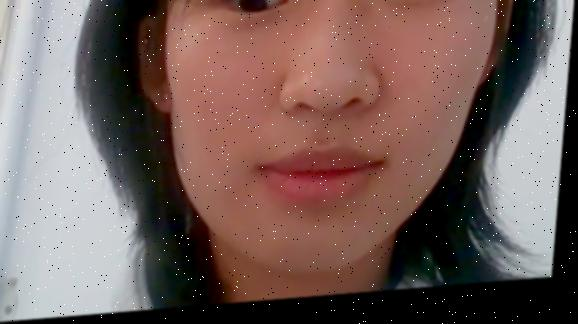eye: (239, 0, 266, 21), (386, 0, 415, 10)
iris: (223, 0, 290, 20), (383, 0, 453, 3)
